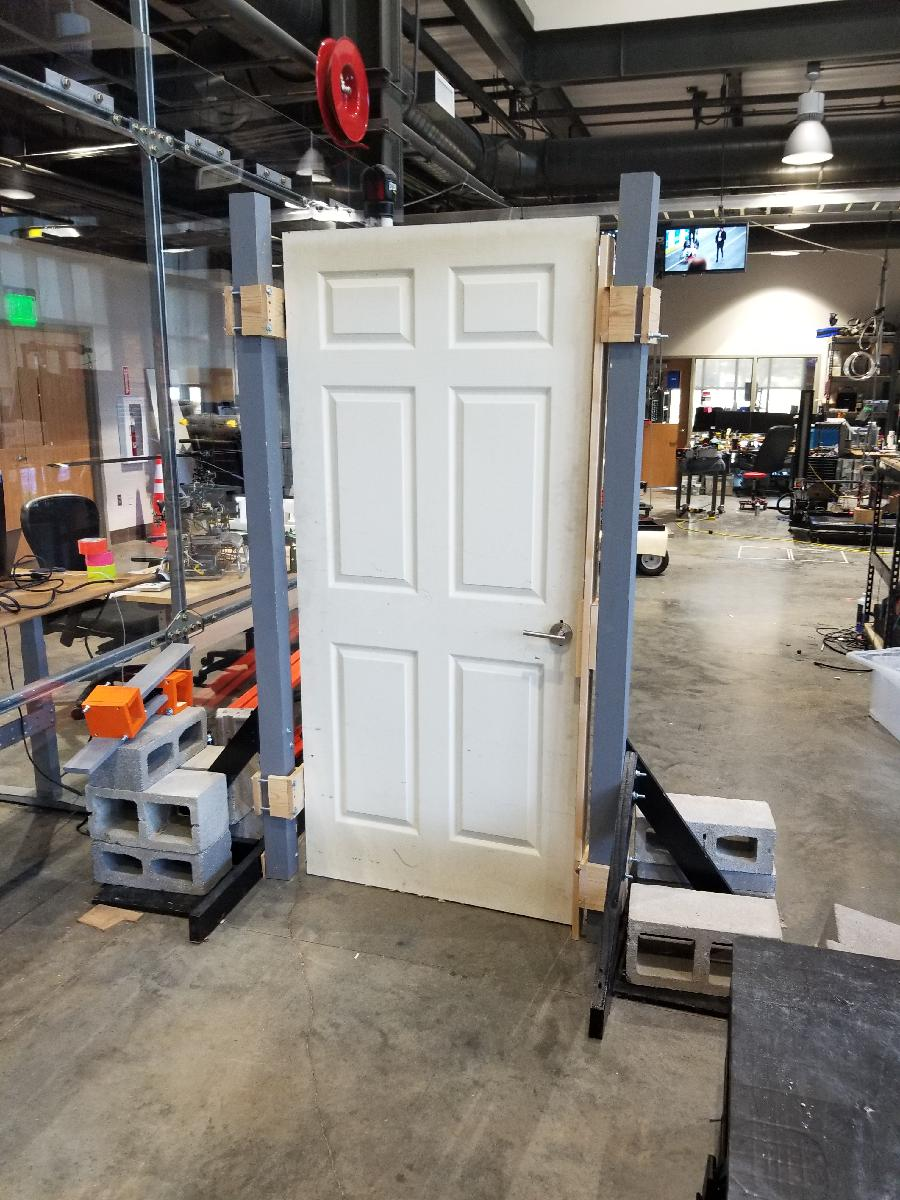door: (278, 210, 605, 954)
doorHandle: (519, 619, 573, 651)
